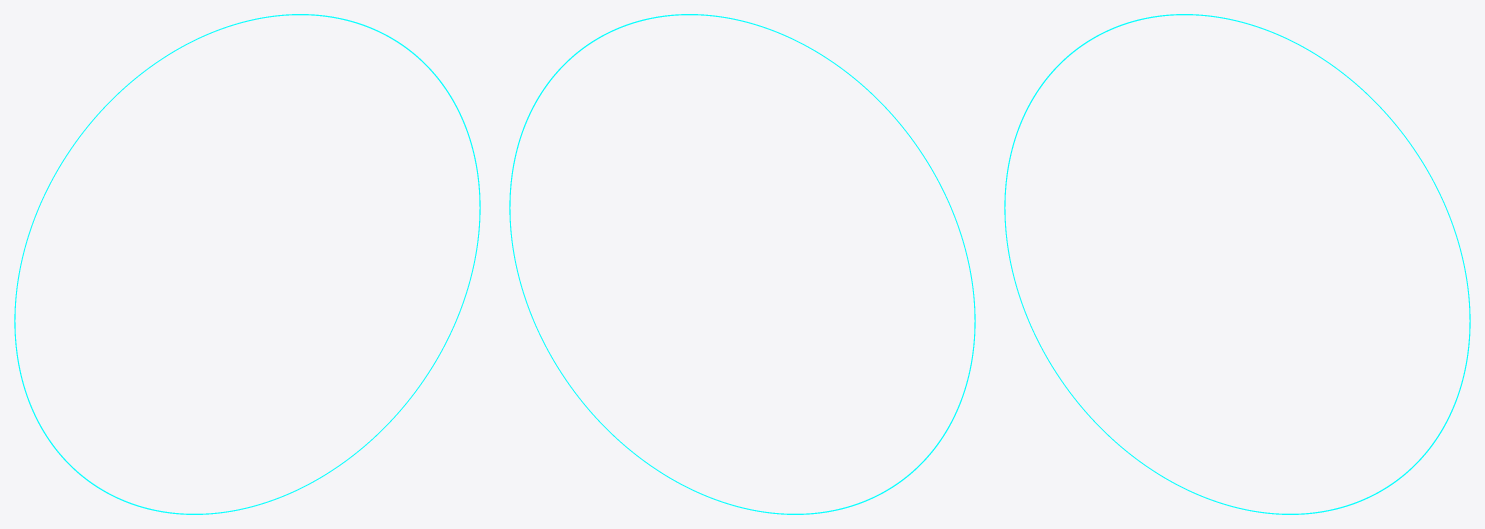
Rendered from orbit_geo.gltf.
3 views of the same model, side by side, from view 1: azimuth 30°, elevation 25°; view 2: azimuth 150°, elevation 25°; view 3: azimuth 330°, elevation 25° (orthographic).
Parts seen in each view (by area): view 1: OrbitTrajectoryNode; view 2: OrbitTrajectoryNode; view 3: OrbitTrajectoryNode.
Part boxes in pixels (bbox=[...]): OrbitTrajectoryNode: bbox=[14, 14, 480, 514]; OrbitTrajectoryNode: bbox=[509, 14, 975, 514]; OrbitTrajectoryNode: bbox=[1004, 14, 1470, 514].
Size of the model in its own units: 84.53 by 84.53 by 0.2.
